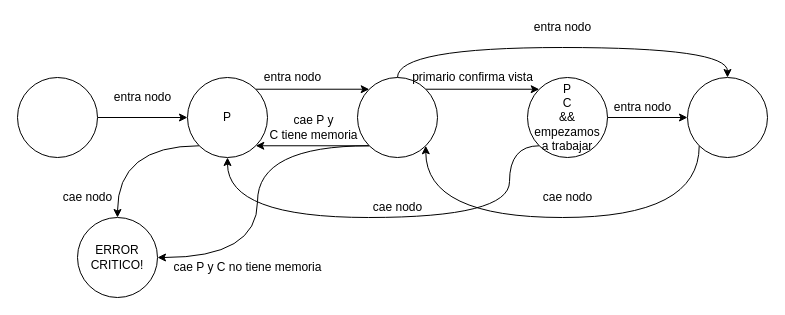
The diagram is 785 pixels wide and 315 high, and some of its shapes have lost their labels. The centre of each missing label's shape, as x and y in pixels:
"P C" belongs at point 397,117.
"P C espera" belongs at point 727,117.
